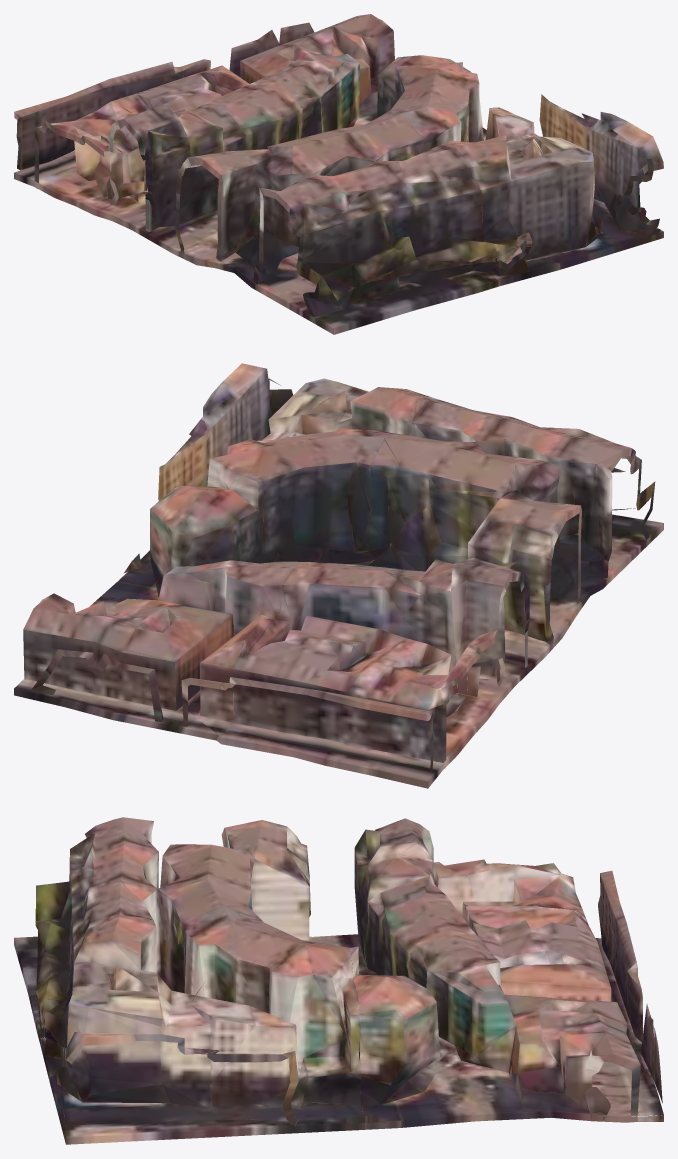
The picture shows the model from 3 angles, top to bottom: view 1: azimuth 30°, elevation 25°; view 2: azimuth 150°, elevation 25°; view 3: azimuth 270°, elevation 25°; orthographic projection. The views are drawn at different scales.
Visible parts, largest first — view 1: Mesh_0; view 2: Mesh_0; view 3: Mesh_0.
Boxes of the visible parts, x1,y1,x2,y2 form: Mesh_0: [14, 14, 663, 334]; Mesh_0: [14, 363, 663, 788]; Mesh_0: [14, 817, 663, 1144].
Size of the model in its own units: 133 by 43.99 by 165.
1 material, 1 textured.
